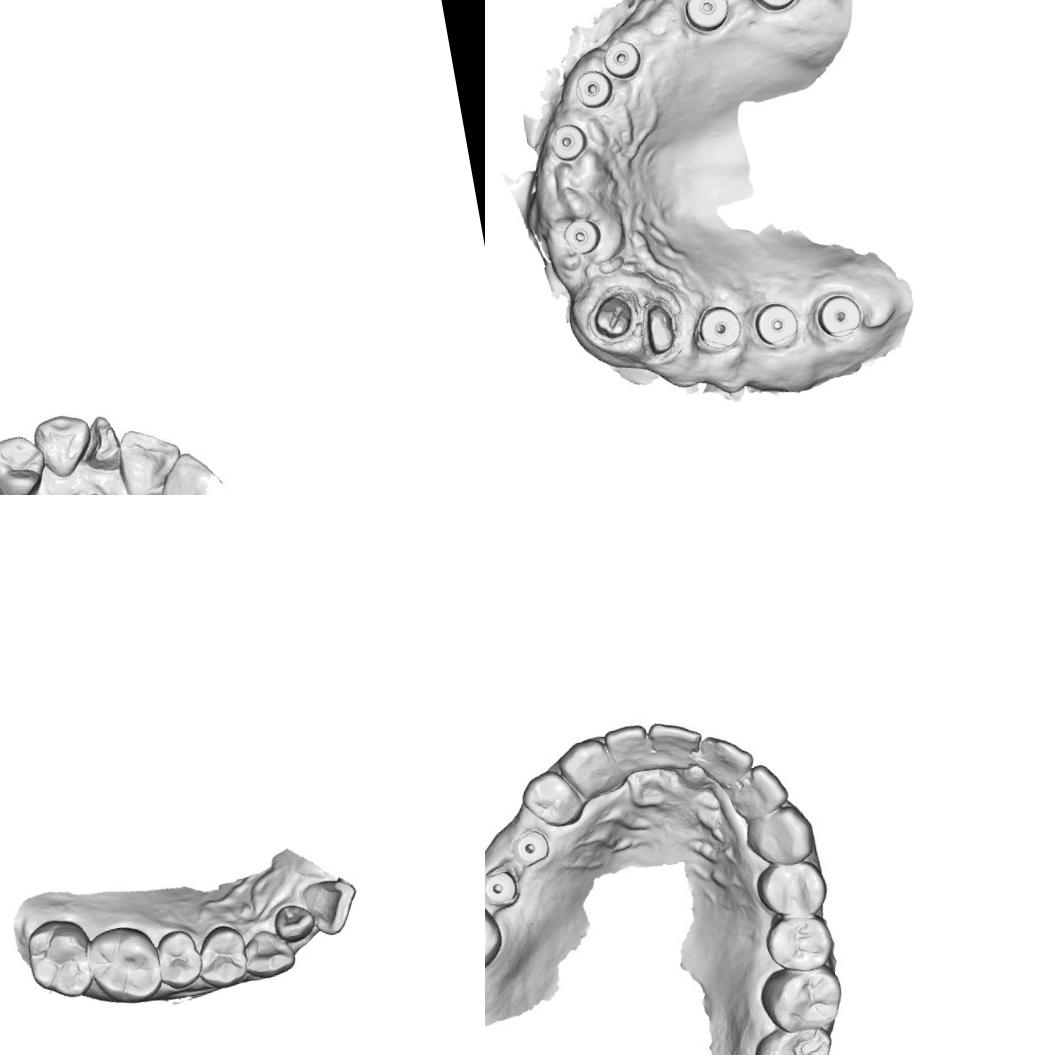canine: (744, 798, 816, 871), (516, 764, 587, 834), (240, 924, 299, 982)
crown: (582, 284, 644, 348), (633, 295, 682, 363)
implant: (812, 287, 865, 342), (750, 297, 802, 351), (691, 302, 744, 353), (678, 0, 734, 39), (598, 36, 644, 82), (485, 860, 525, 912), (570, 66, 615, 112), (509, 824, 554, 870), (560, 213, 604, 258), (546, 120, 590, 164), (745, 0, 805, 15)
incisor: (105, 420, 186, 495), (28, 407, 98, 482), (550, 732, 616, 802), (299, 873, 364, 940), (693, 727, 759, 789), (642, 715, 706, 774), (730, 757, 790, 819), (600, 719, 654, 779), (78, 409, 124, 477), (152, 447, 215, 495), (270, 900, 318, 945)
molar: (85, 920, 164, 1010), (754, 959, 846, 1036), (22, 914, 98, 1004), (751, 1016, 838, 1055), (485, 881, 508, 985)
premolar: (752, 855, 831, 924), (758, 906, 836, 975), (191, 921, 251, 992), (150, 924, 207, 993), (0, 430, 48, 495)
